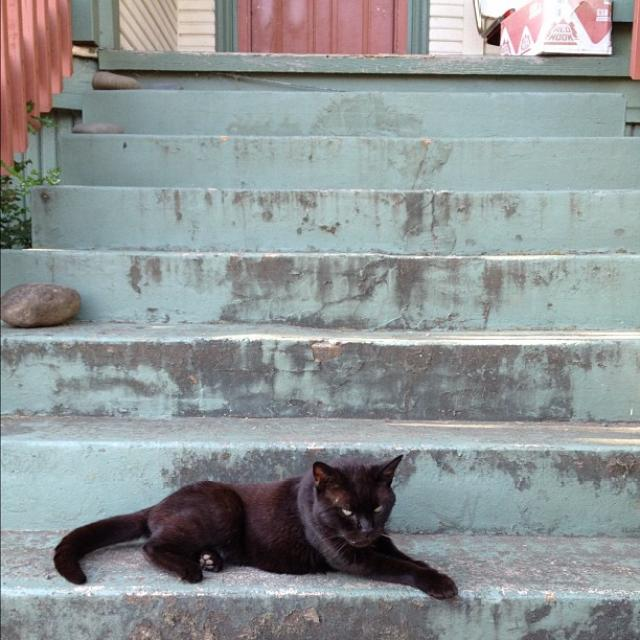cats: (46, 452, 464, 604)
